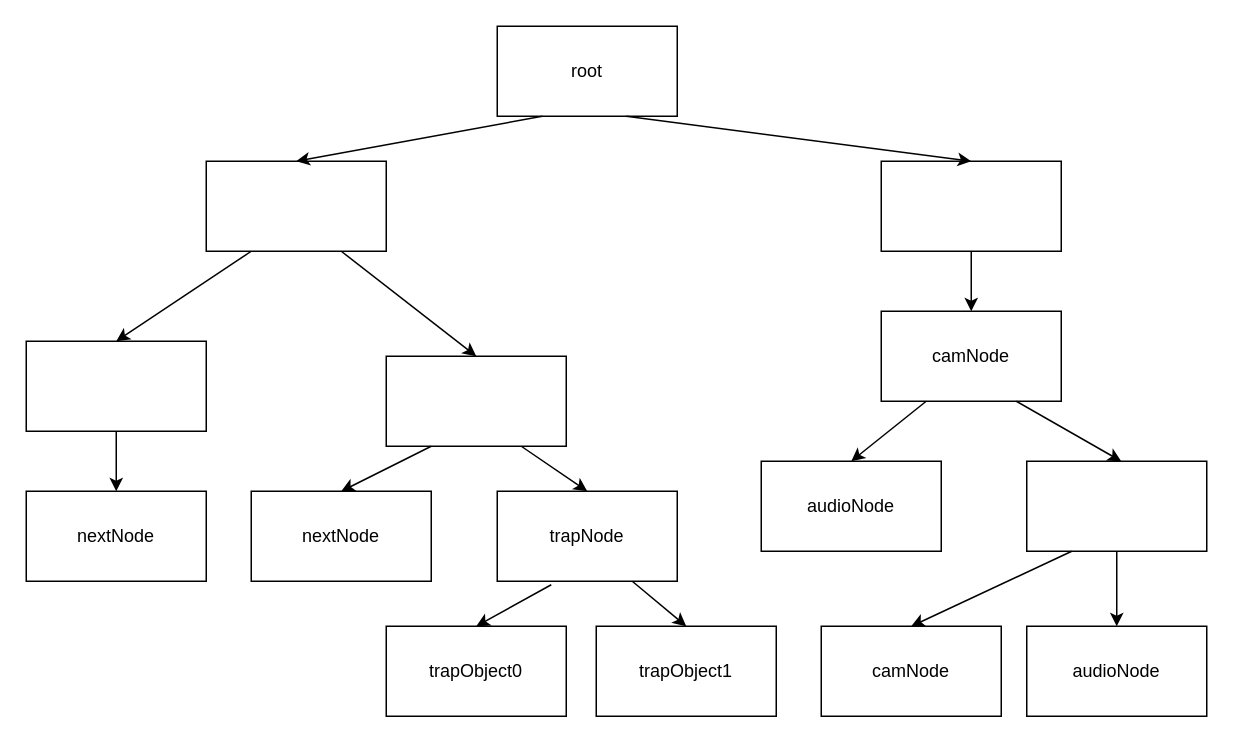
This 1233x743 diagram has some shape labels left out. Each missing label, with the centre of its shape:
Avatar: point (970, 205)
Hook: point (1116, 505)
level: point (295, 205)
platform0: point (115, 385)
platform1: point (475, 400)
